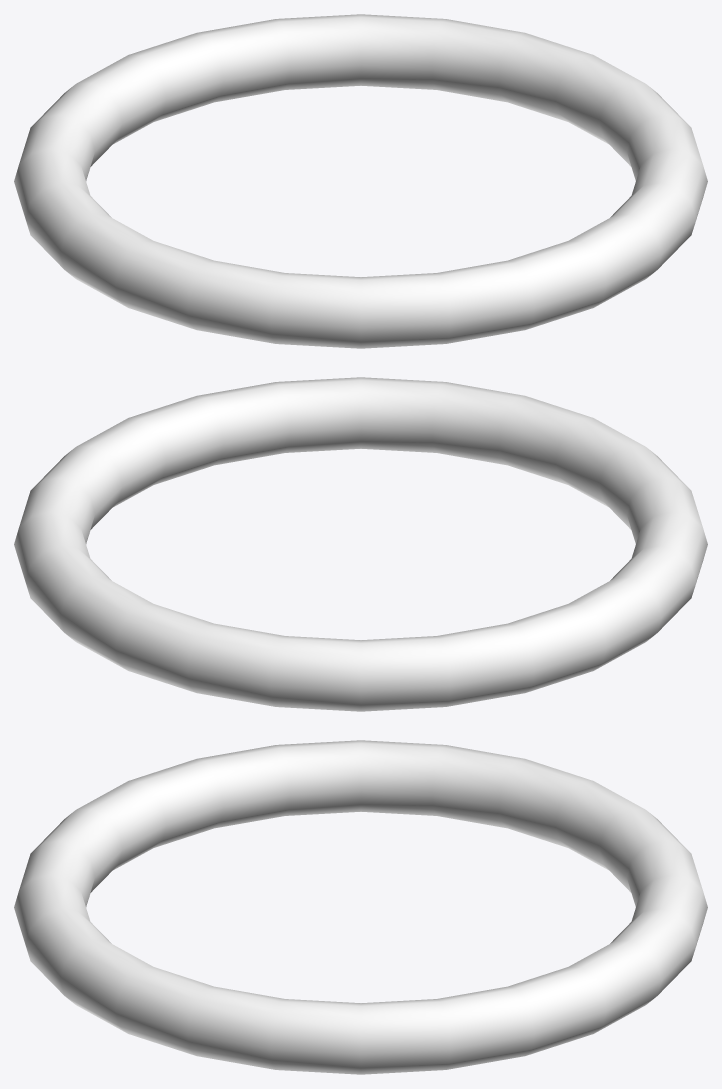
The model's file is anillo (1).fbx.
3 views of the same model, one above another, from view 1: azimuth 30°, elevation 25°; view 2: azimuth 150°, elevation 25°; view 3: azimuth 270°, elevation 25° (orthographic).
Visible parts, largest first — view 1: Torus001; view 2: Torus001; view 3: Torus001.
Boxes of the visible parts, left/top/right/bottom form: Torus001: left=14, top=14, right=707, bottom=348; Torus001: left=14, top=377, right=707, bottom=711; Torus001: left=14, top=740, right=707, bottom=1074.
Size of the model in its own units: 63.95 by 63.95 by 6.62.
1 material, 1 textured.
